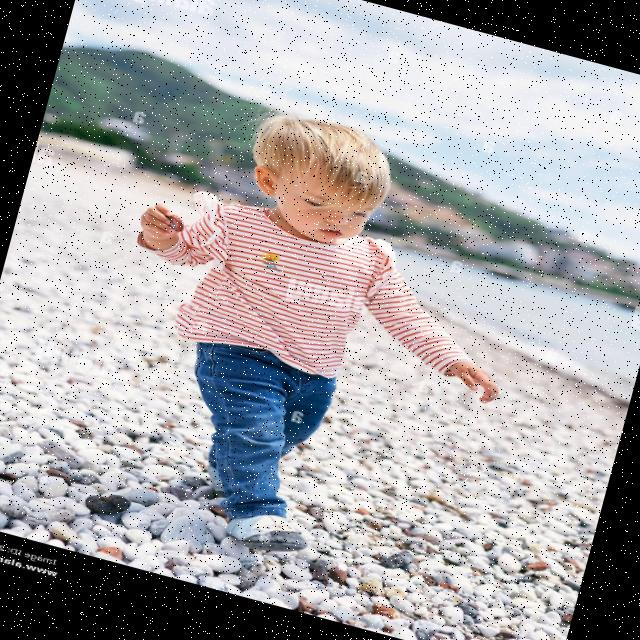Person: (69, 80, 554, 595)
